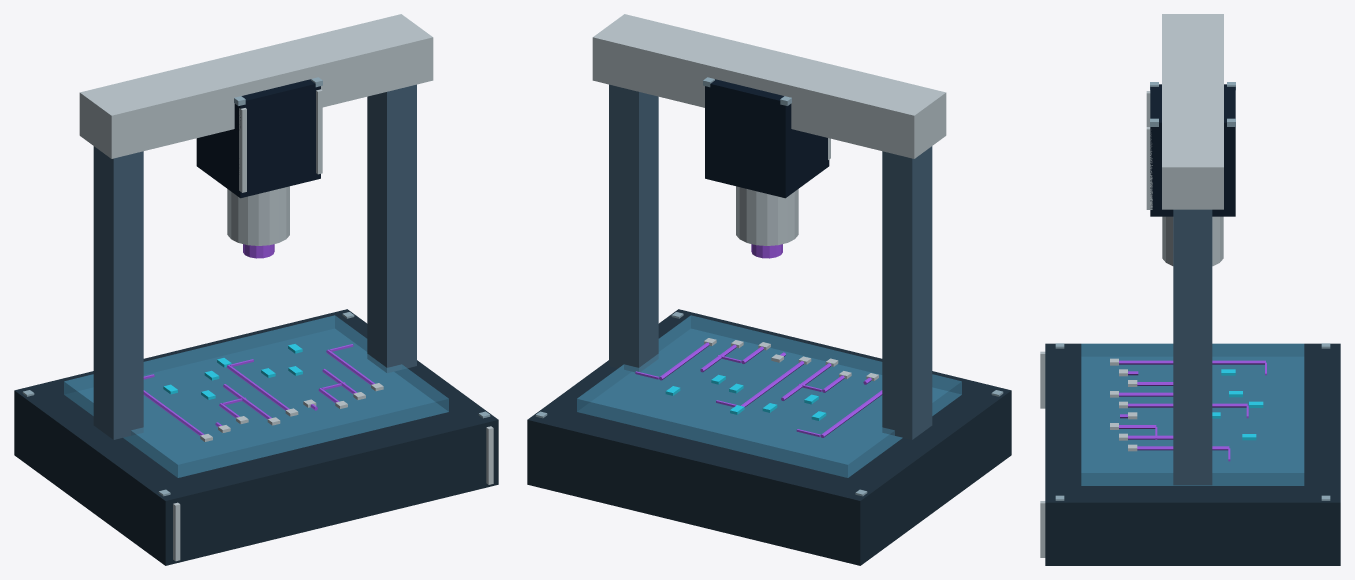
The model's file is 50_L74_ReticleDefectInspectionModule.fbx.
3 views of the same model, side by side, from view 1: azimuth 30°, elevation 25°; view 2: azimuth 150°, elevation 25°; view 3: azimuth 270°, elevation 25° (orthographic). The views are drawn at different scales.
Visible parts, largest first — view 1: ReticleDefectInspectionModule, ReticleDefectInspectionModule_Part_0041, ReticleDefectInspectionModule_Part_0048, ReticleDefectInspectionModule_Part_0046; view 2: ReticleDefectInspectionModule, ReticleDefectInspectionModule_Part_0041, ReticleDefectInspectionModule_Part_0048; view 3: ReticleDefectInspectionModule, ReticleDefectInspectionModule_Part_0041, ReticleDefectInspectionModule_Part_0048, ReticleDefectInspectionModule_Part_0047.
Part boxes in pixels (bbox=[...]): ReticleDefectInspectionModule: bbox=[14, 14, 498, 565]; ReticleDefectInspectionModule_Part_0041: bbox=[196, 79, 320, 198]; ReticleDefectInspectionModule_Part_0048: bbox=[227, 186, 289, 245]; ReticleDefectInspectionModule_Part_0046: bbox=[239, 108, 246, 192]; ReticleDefectInspectionModule: bbox=[527, 14, 1011, 565]; ReticleDefectInspectionModule_Part_0041: bbox=[705, 79, 829, 198]; ReticleDefectInspectionModule_Part_0048: bbox=[736, 186, 798, 245]; ReticleDefectInspectionModule: bbox=[1040, 14, 1340, 565]; ReticleDefectInspectionModule_Part_0041: bbox=[1150, 84, 1235, 216]; ReticleDefectInspectionModule_Part_0048: bbox=[1162, 216, 1223, 266]; ReticleDefectInspectionModule_Part_0047: bbox=[1146, 127, 1152, 209].
Bounding box in the file's own units: 145 × 168 × 116.
